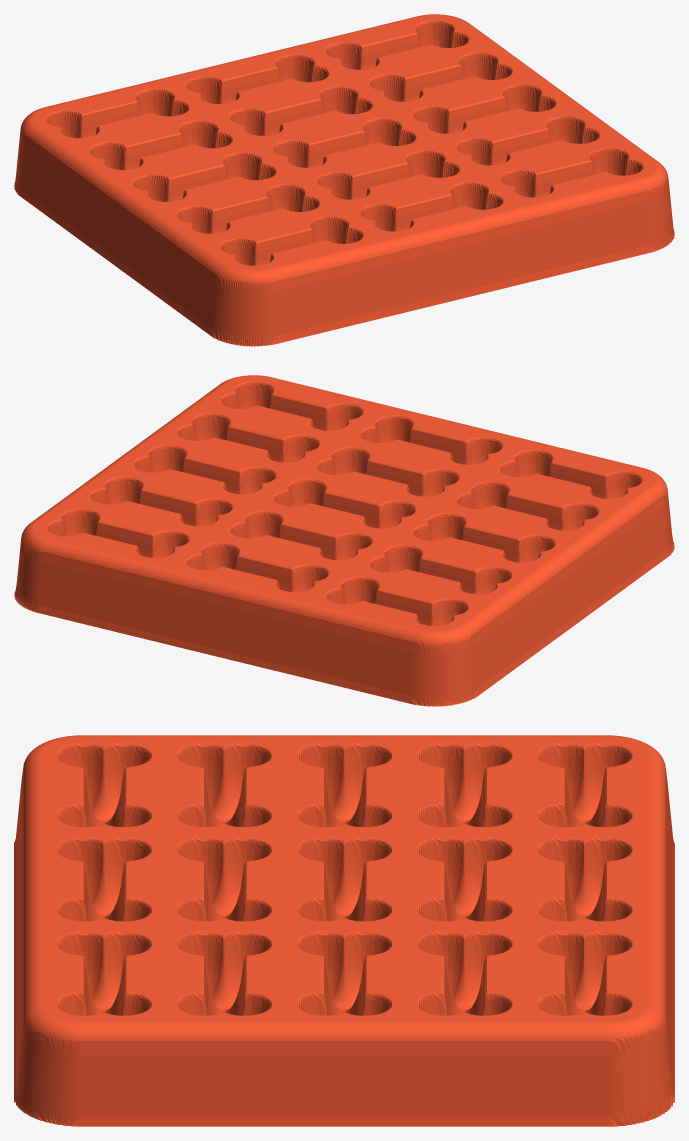
The model's file is mold.glb.
3 renders of one model, top to bottom at view 1: azimuth 30°, elevation 25°; view 2: azimuth 150°, elevation 25°; view 3: azimuth 270°, elevation 25°, orthographic. The views are drawn at different scales.
Visible parts, largest first — view 1: geometry_0; view 2: geometry_0; view 3: geometry_0.
Part boxes in pixels (box(x1,y1,x2,y2)): geometry_0: box(14, 14, 674, 346); geometry_0: box(14, 375, 674, 706); geometry_0: box(14, 735, 674, 1126).
Size of the model in its own units: 0.0966 by 0.0136 by 0.0876.
